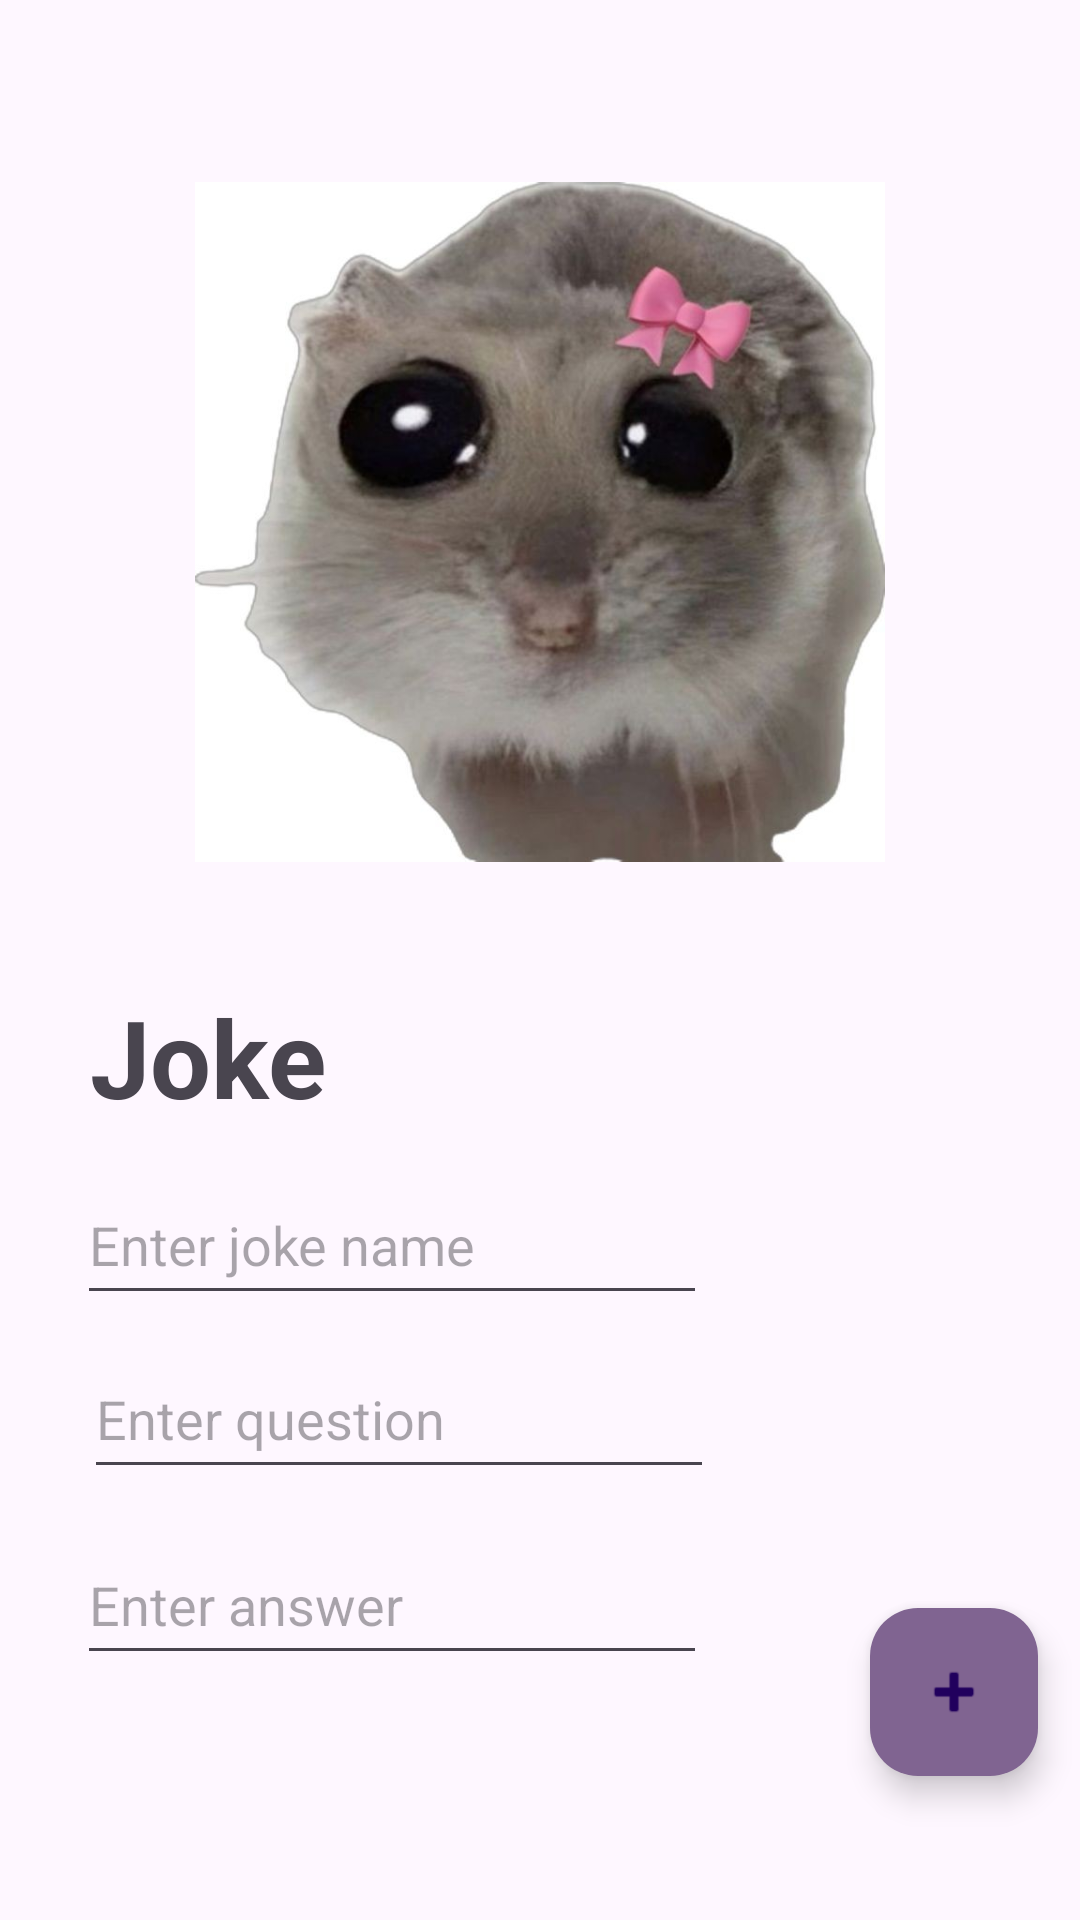

Screen size 1080px×1920px. Icon name, then its center in pixels as [x,y]:
add: [954,1692]
